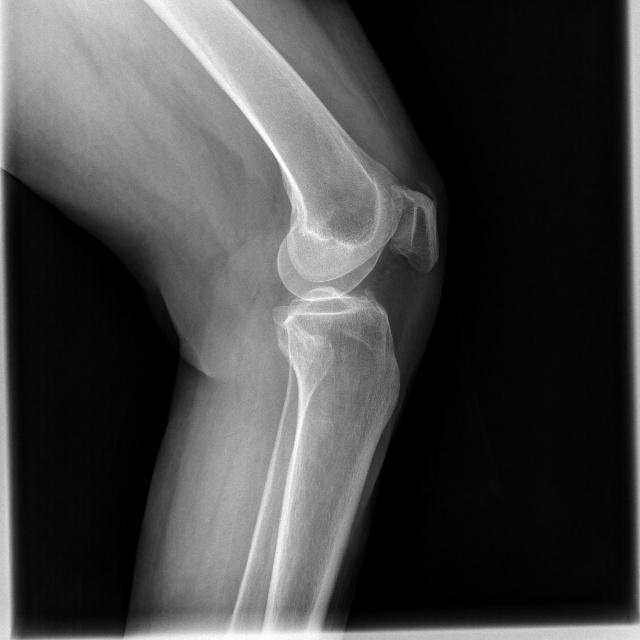Knee: (266, 182, 438, 369)
